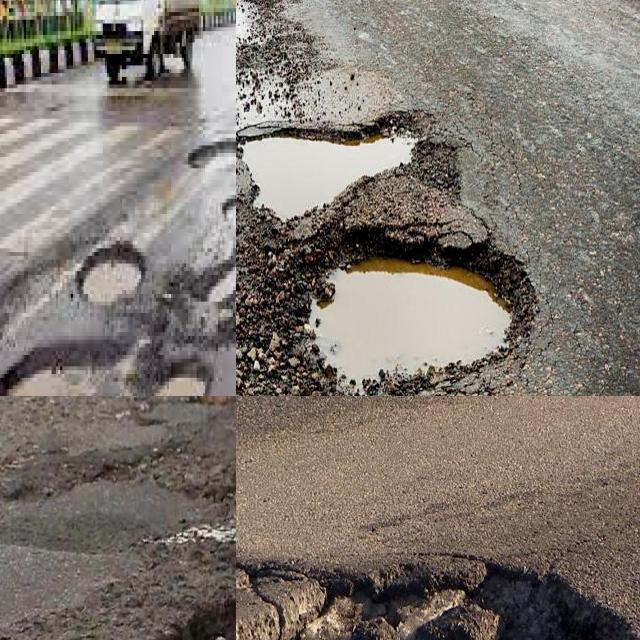Pothole: (267, 229, 533, 396), (236, 562, 637, 640), (236, 108, 429, 221), (5, 332, 152, 396), (73, 244, 145, 309), (175, 264, 236, 332)
